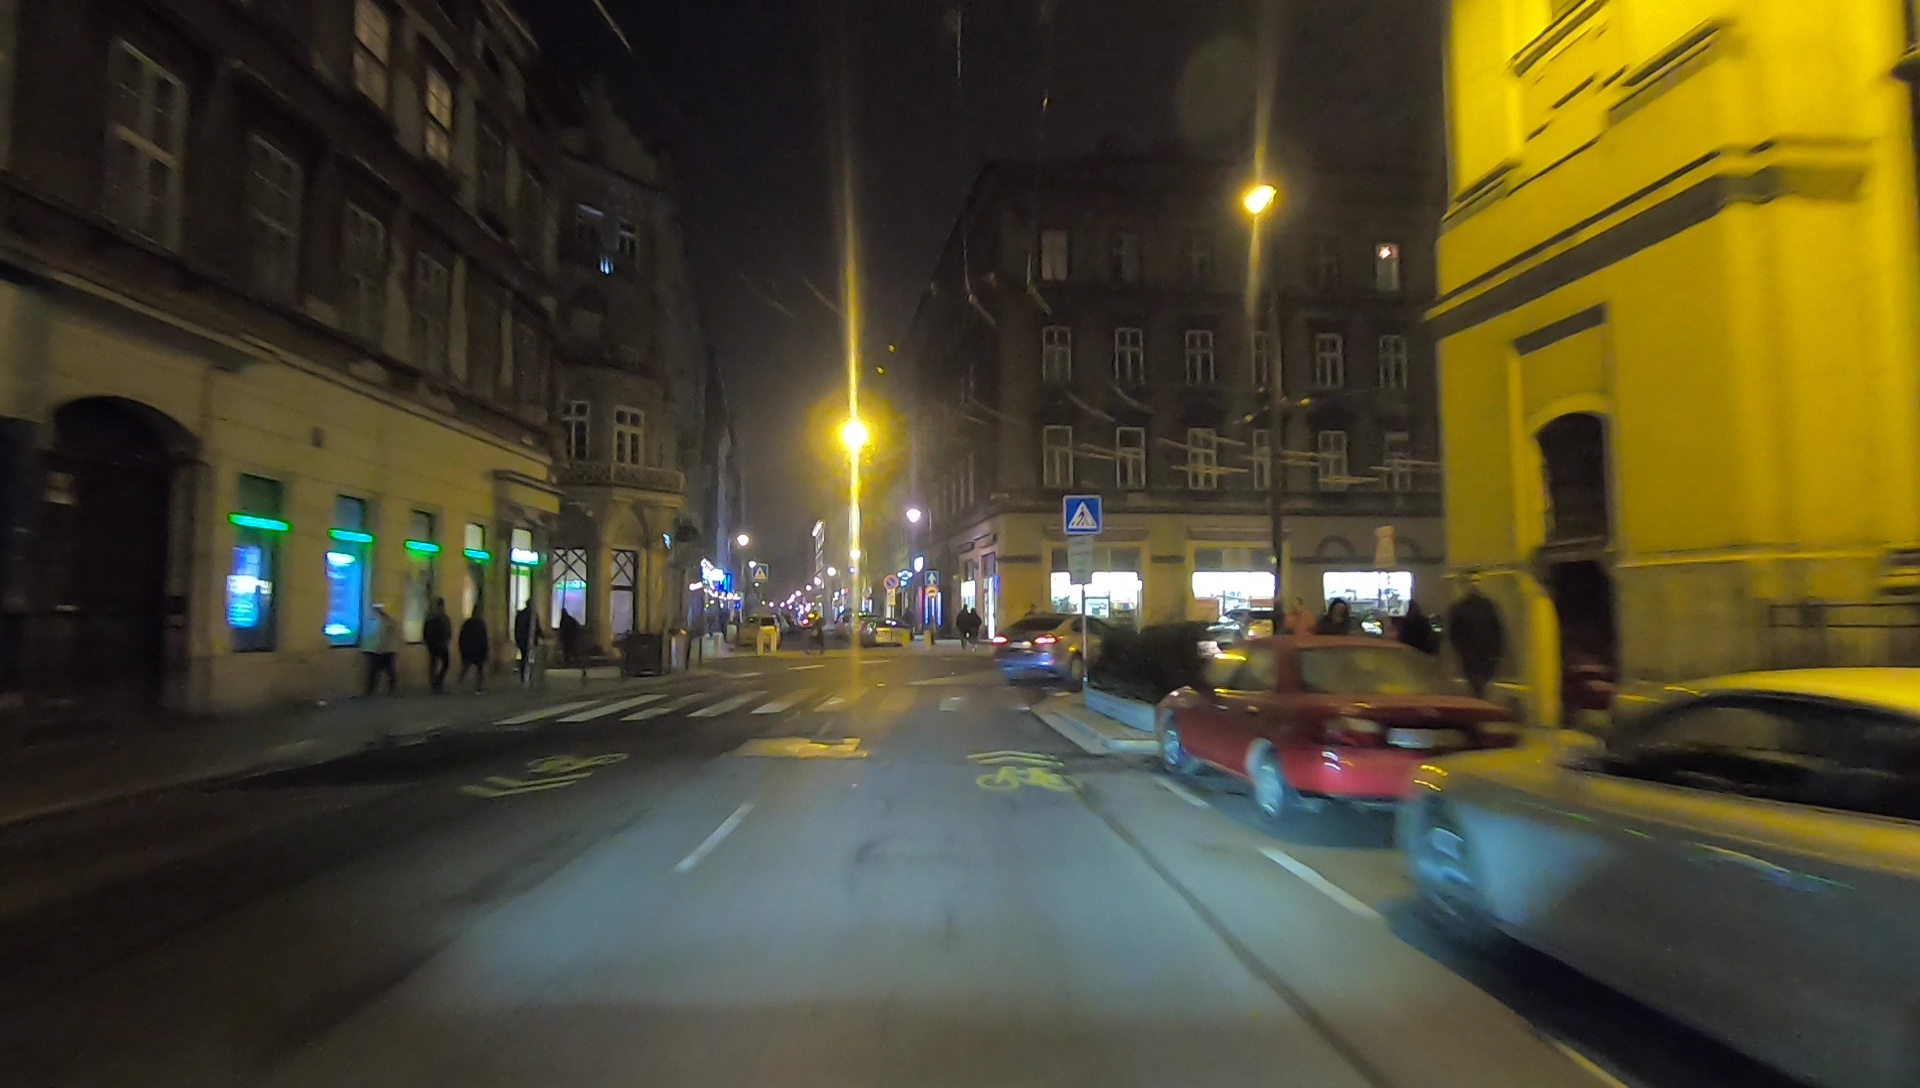person: (1452, 574, 1512, 708), (1388, 602, 1439, 711), (1325, 591, 1356, 711), (512, 597, 543, 684), (364, 599, 391, 695), (462, 606, 488, 687), (428, 597, 449, 689), (804, 613, 825, 663), (971, 608, 989, 650), (962, 604, 973, 649)
